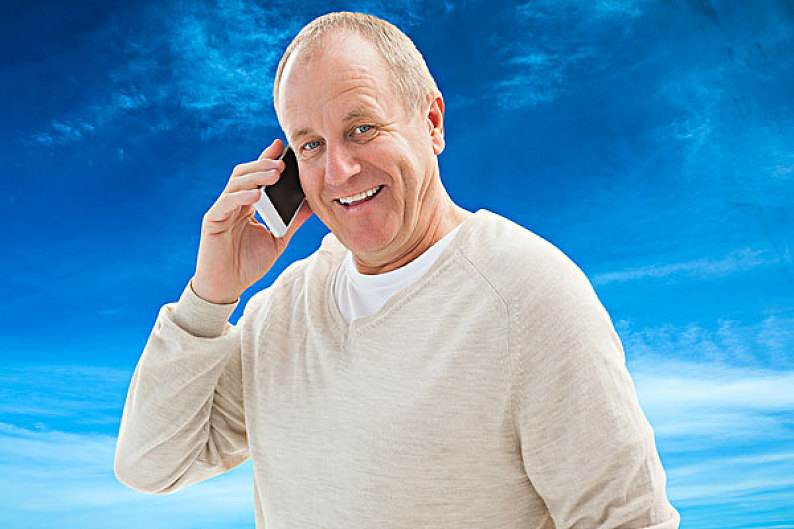calling: (193, 135, 317, 293)
